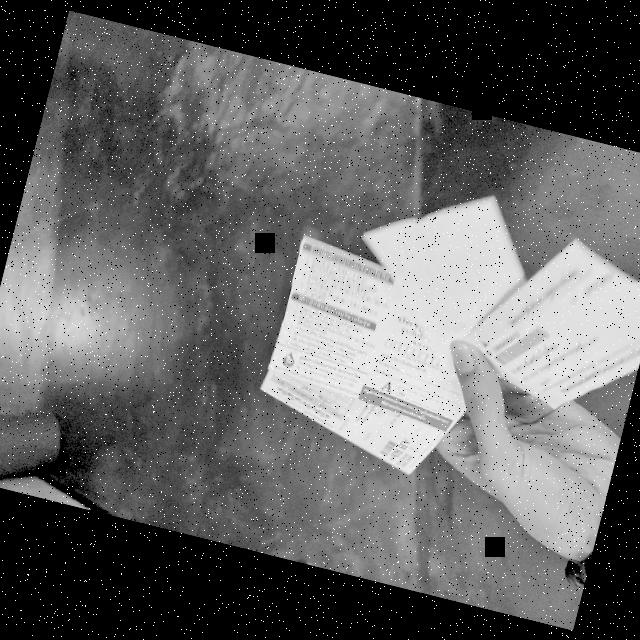scrap_paper: (242, 224, 501, 441), (332, 163, 534, 391), (447, 217, 640, 429), (243, 316, 457, 481)
